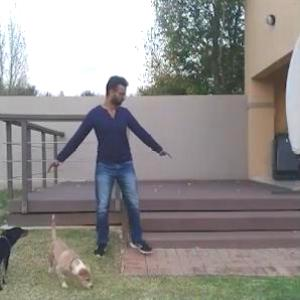land: (49, 74, 173, 254)
